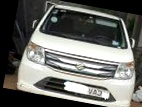car: (12, 0, 142, 107)
